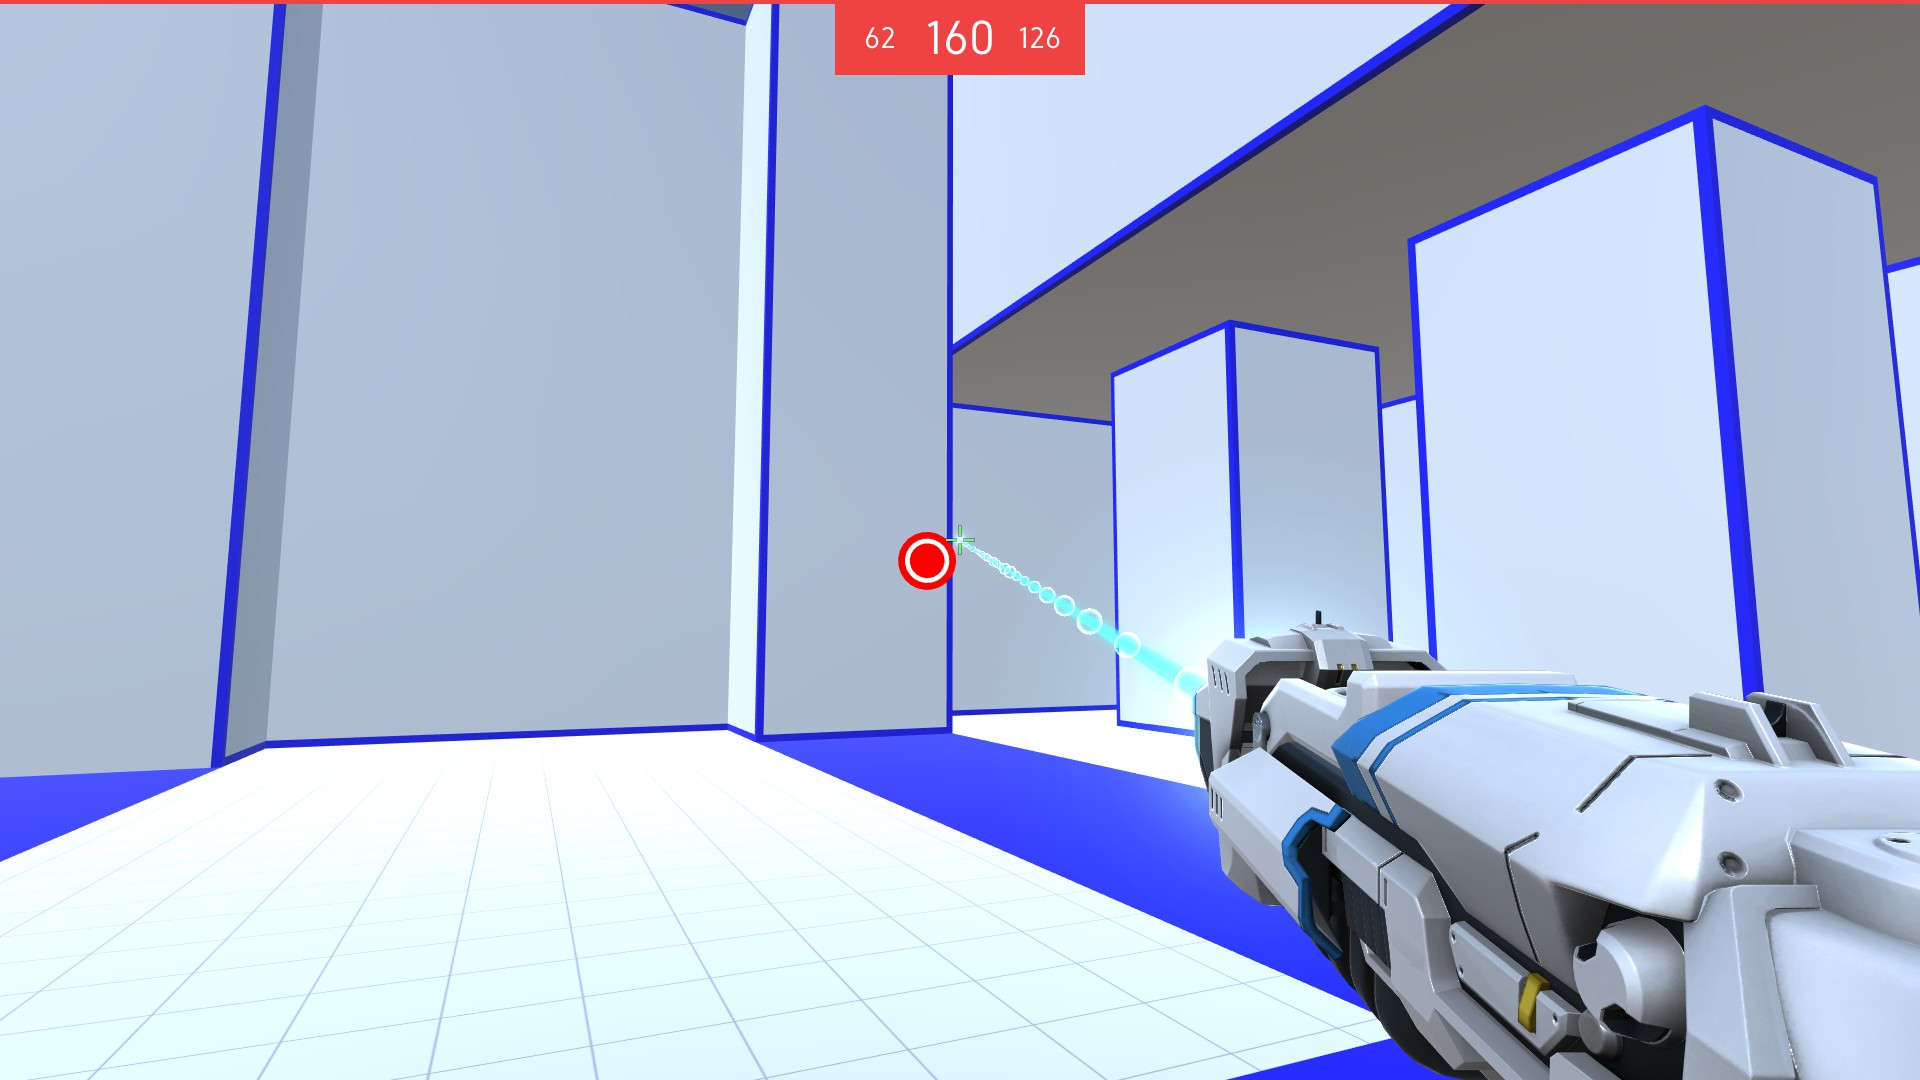target: (895, 530, 963, 589)
